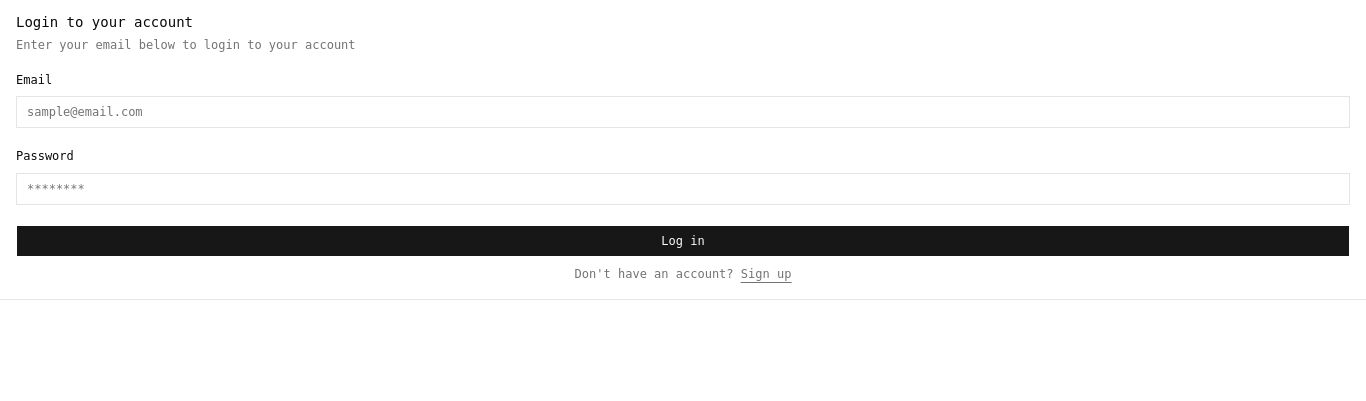
Test: Login › Shows validation error when password is empty
Type "test@gmail.com" into the field labelled "Email" at [683, 112], box top-left (16, 96), bottom-right (1350, 128)
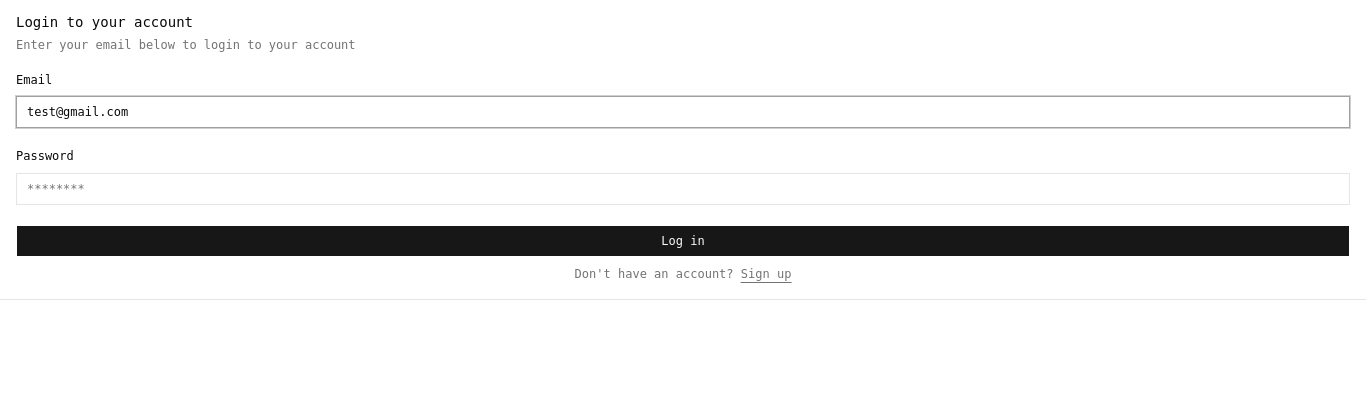
Click the button "Log in" at [683, 240], box top-left (16, 224), bottom-right (1350, 256)
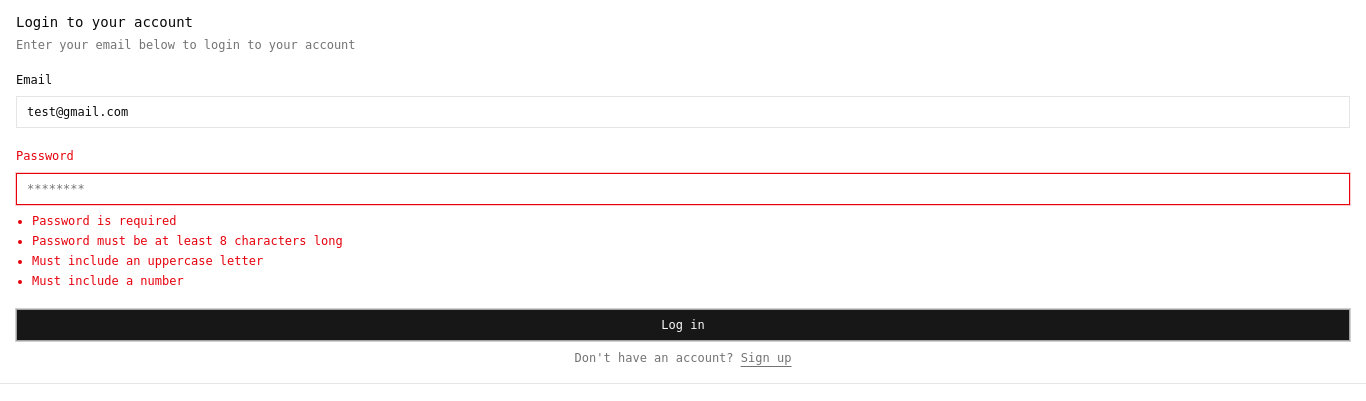
Expected: the list item "Password is required" is shown, top-left (32, 214), bottom-right (176, 228)
